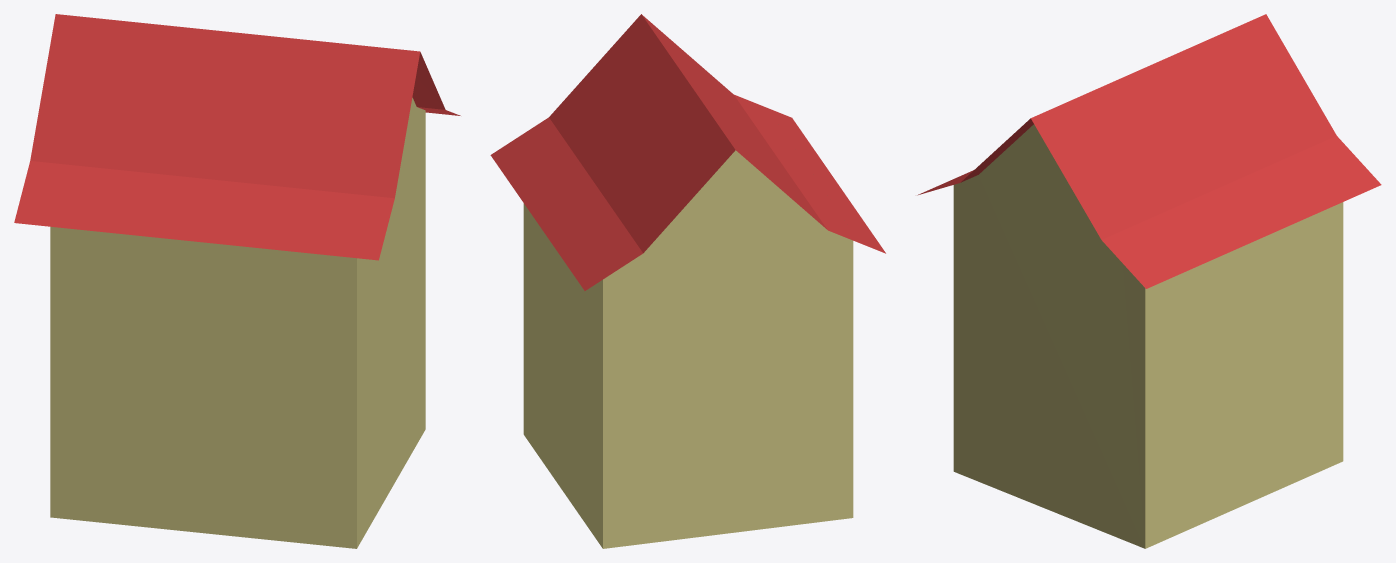
3 views of the same model, side by side, from view 1: azimuth 30°, elevation 25°; view 2: azimuth 150°, elevation 25°; view 3: azimuth 270°, elevation 25° (orthographic). The views are drawn at different scales.
Size of the model in its own units: 12.91 by 12.89 by 12.21.
